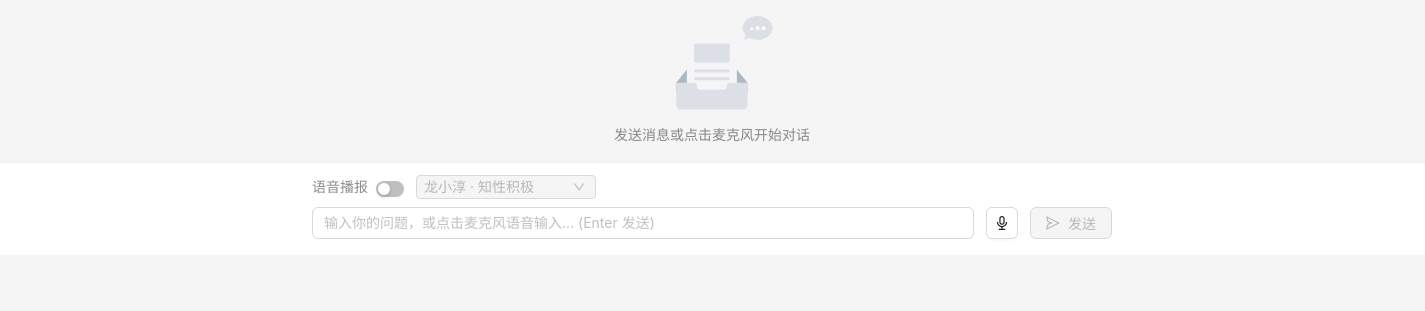
Test: ChatPage voice controls › sends text message and shows assistant reply
Step 1. Type "你好" into the text box with placeholder "输入你的问题，或点击麦克风语音输入... (Enter 发送)" → (643, 223), box 312,207 -> 974,239
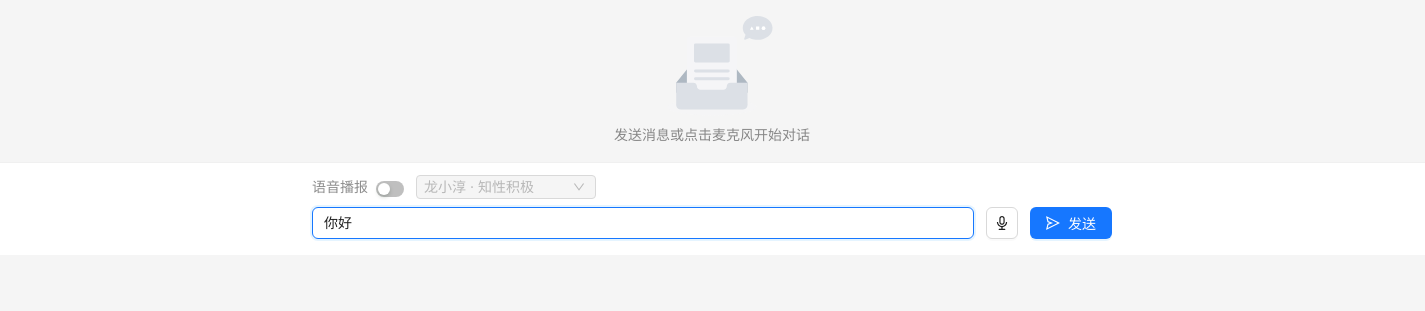
Step 2. Click the button "发送" → (1071, 223), box 1030,207 -> 1112,239
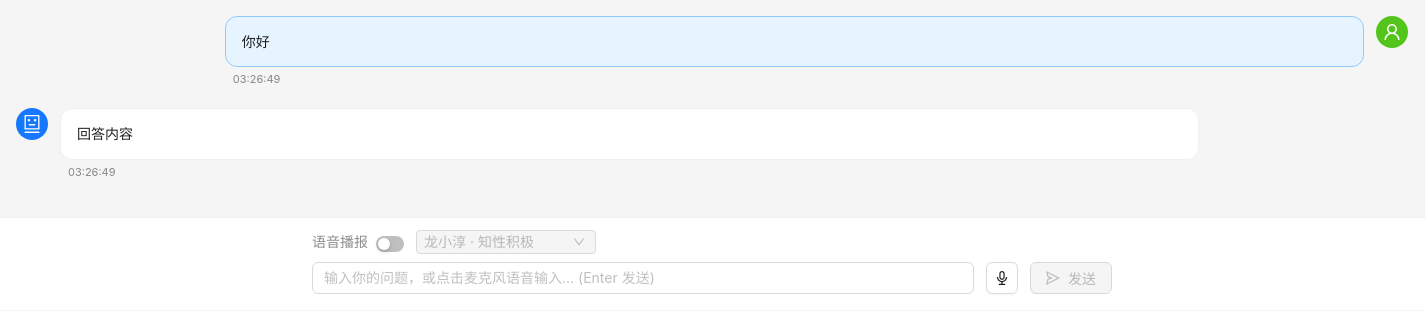
Expected: the text "回答内容" is shown, 77,126 -> 133,142
